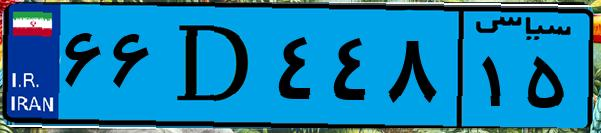1: (475, 38, 525, 113)
4: (270, 28, 330, 110), (330, 28, 385, 110)
5: (525, 38, 570, 115)
6: (57, 26, 110, 100), (110, 28, 158, 98)
8: (385, 28, 445, 110)
D: (158, 12, 270, 120)
